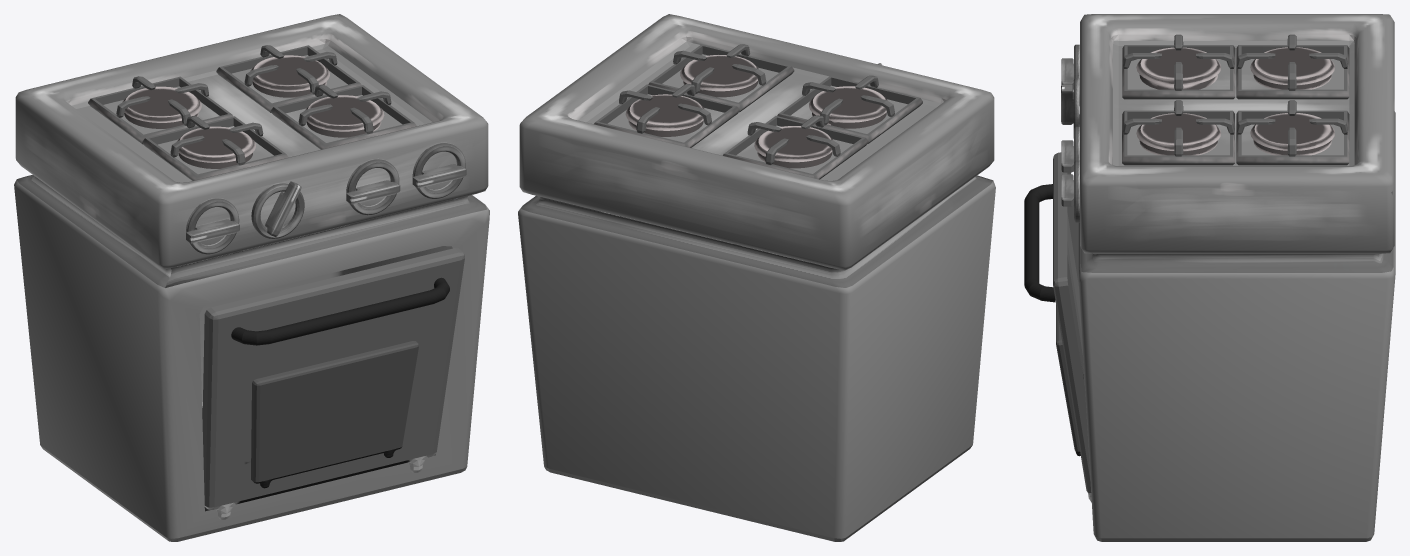
The model's file is SM_Gazinière.fbx.
3 views of the same model, side by side, from view 1: azimuth 30°, elevation 25°; view 2: azimuth 150°, elevation 25°; view 3: azimuth 270°, elevation 25° (orthographic). The views are drawn at different scales.
Parts seen in each view (by area): view 1: Gazinière; view 2: Gazinière; view 3: Gazinière.
Boxes of the visible parts, x1=… form: Gazinière: x1=14, y1=14, x2=489, y2=541; Gazinière: x1=518, y1=14, x2=995, y2=541; Gazinière: x1=1024, y1=14, x2=1395, y2=541.
Size of the model in its own units: 81.31 by 84.97 by 74.88.
